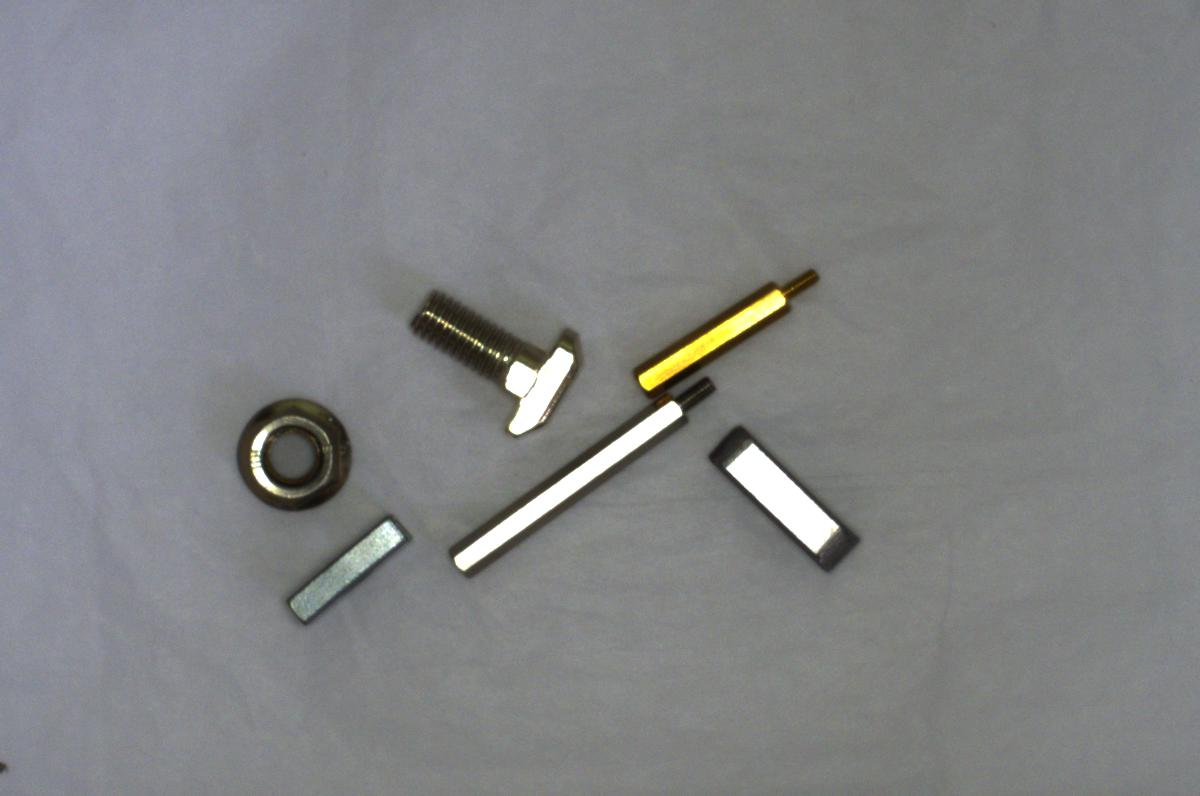Flange nut: (217, 386, 357, 514)
Hexagon pillar: (619, 249, 831, 394)
Hexagonal steel column: (448, 375, 712, 588)
Keybar: (699, 418, 867, 575)
Rectangular nut: (280, 508, 419, 625)
T-shaped screw: (385, 274, 584, 443)
